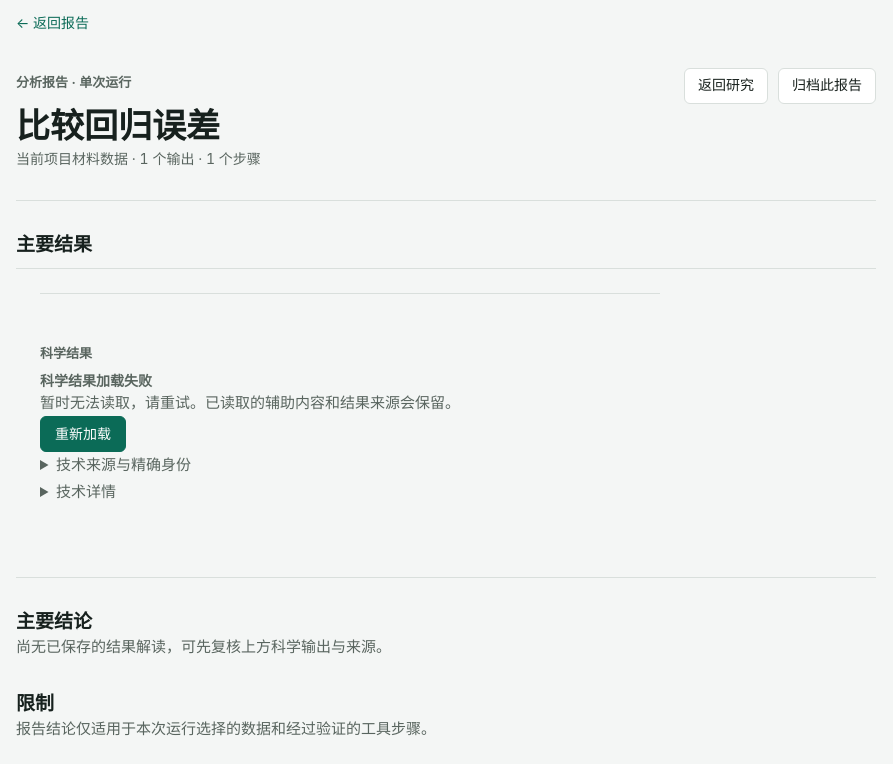
Scenario: shows archive failure without changing the report or exposing upstream errors
Click the button "归档此报告" at coordinates (827, 86), box 778,68 -> 876,104
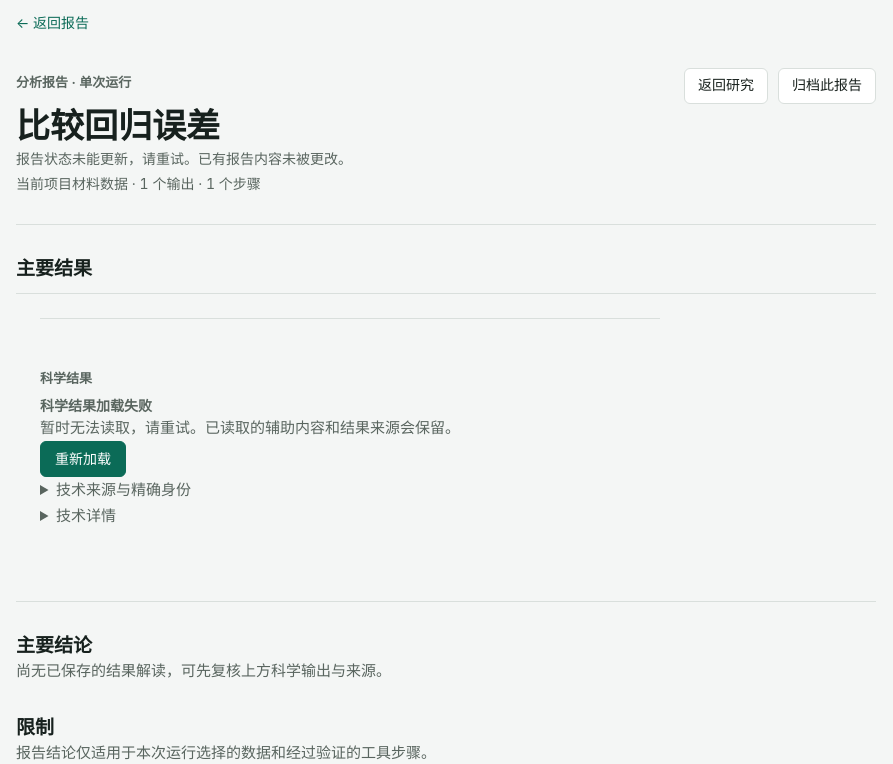
Now the text "报告状态未能更新，请重试。已有报告内容未被更改。" is shown, box 16,150 -> 352,167
